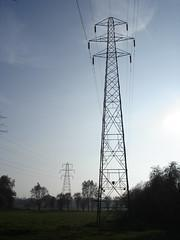power_tower: (83, 14, 141, 228), (58, 161, 76, 201)
